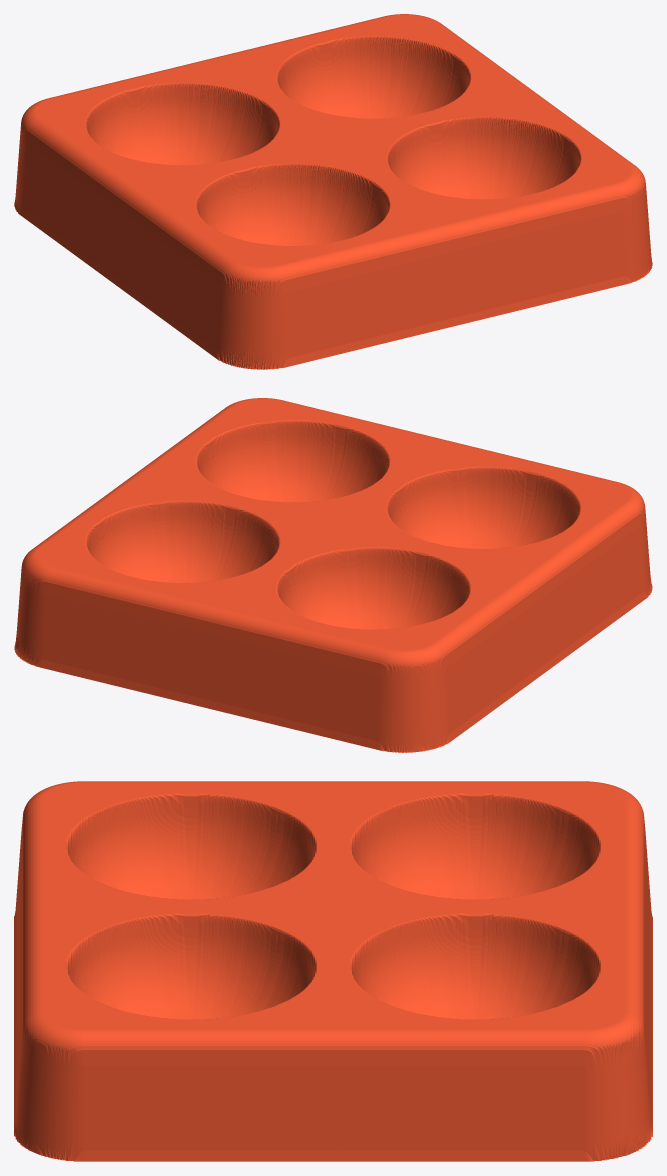
File: mold.glb
3 renders of one model, top to bottom at view 1: azimuth 30°, elevation 25°; view 2: azimuth 150°, elevation 25°; view 3: azimuth 270°, elevation 25°, orthographic. The views are drawn at different scales.
Visible parts, largest first — view 1: geometry_0; view 2: geometry_0; view 3: geometry_0.
Part boxes in pixels (<box>): geometry_0: <box>14,14,652,369</box>; geometry_0: <box>14,398,652,752</box>; geometry_0: <box>14,781,652,1161</box>.
Size of the model in its own units: 0.0828 by 0.0172 by 0.0828.
